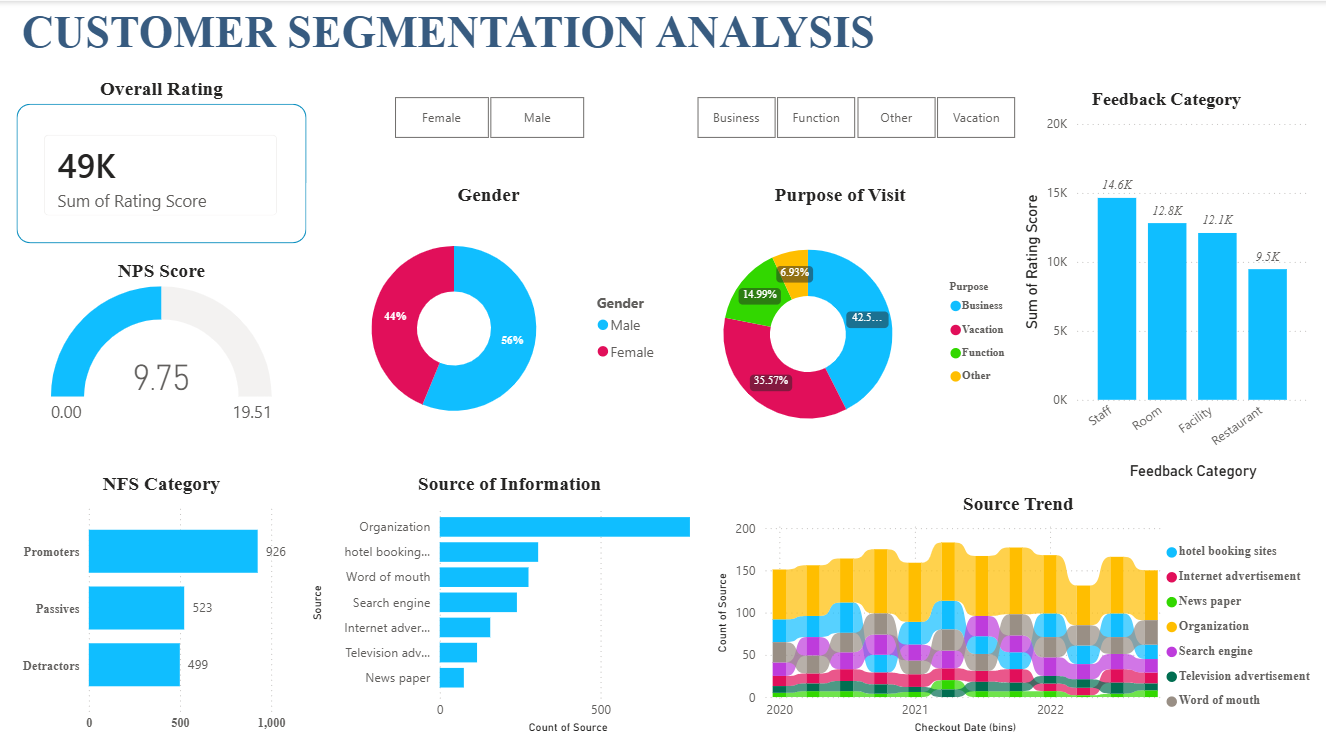

The page's visual inventory and layout, read from the dashboard file:
{"tool":"powerbi","page":{"name":"Page 1","canvas":[1280,720],"ordinal":0},"visuals":[{"type":"shape","title":"Overall Rating","box":[16.9,73.6,279.9,160.5],"z":0},{"type":"slicer","fields":{"Values":["General.Purpose"]},"box":[647.9,85.7,357.1,53.1],"z":1000},{"type":"slicer","fields":{"Values":["General.Gender"]},"box":[355.9,85.7,232.8,53.1],"z":2000},{"type":"gauge","fields":{"Y":["General.NPS Score"]},"box":[16.9,249.7,279.9,168.9],"z":3000},{"type":"clusteredBarChart","title":"NFS Category","fields":{"Category":["General.NFS"],"Y":["CountNonNull(General.NFS)"]},"box":[16.9,454.8,279.9,257],"z":4000},{"type":"donutChart","title":"Purpose of Visit","fields":{"Category":["General.Purpose"],"Y":["CountNonNull(General.Purpose)"]},"box":[639.4,176.1,345,270.2],"z":5000},{"type":"donutChart","title":" Gender","fields":{"Category":["General.Gender","General.Purpose"],"Y":["CountNonNull(General.Gender)"]},"box":[296.8,176.1,351.1,259.4],"z":6000},{"type":"clusteredBarChart","title":"Source of Information","fields":{"Category":["General.Source"],"Y":["CountNonNull(General.Source)"]},"box":[296.8,454.8,392.1,257],"z":7000},{"type":"ribbonChart","title":" Source Trend","fields":{"Y":["CountNonNull(General.Source)"],"Series":["General.Source"],"Category":["General.Checkout Date (bins)"]},"box":[687.7,474.1,592.4,237.7],"z":8000},{"type":"clusteredColumnChart","title":"Feedback Category","fields":{"Category":["Feedback.Feedback Category"],"Y":["Sum(Feedback.Rating Score)"]},"box":[984.5,85.7,284.7,381.2],"z":9000},{"type":"cardVisual","fields":{"Data":["Sum(Feedback.Rating Score)"]},"box":[26.5,112.2,259.4,112.2],"z":10000},{"type":"textbox","box":[16.9,0,967.6,73.6],"z":11000}]}

Visuals, with their boxes in screenshot pixels (x1, y1, x2, y2), scaled from the page's 1280x720 canvas onto the 1326x747 screenshot:
"Overall Rating" shape: rect(18, 76, 307, 243)
slicer - General.Purpose: rect(671, 89, 1041, 144)
slicer - General.Gender: rect(369, 89, 610, 144)
gauge - General.NPS Score: rect(18, 259, 307, 434)
"NFS Category" clusteredBarChart: rect(18, 472, 307, 738)
"Purpose of Visit" donutChart: rect(662, 183, 1020, 463)
" Gender" donutChart: rect(307, 183, 671, 452)
"Source of Information" clusteredBarChart: rect(307, 472, 714, 738)
" Source Trend" ribbonChart: rect(712, 492, 1325, 738)
"Feedback Category" clusteredColumnChart: rect(1020, 89, 1315, 484)
cardVisual - Sum(Feedback.Rating Score): rect(27, 116, 296, 233)
textbox: rect(18, 0, 1020, 76)
